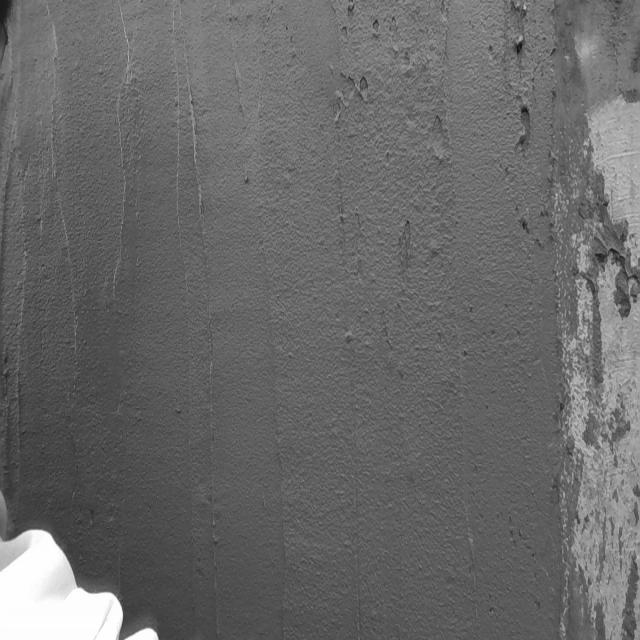trowels marks: (170, 14, 218, 640), (266, 264, 292, 638), (340, 414, 372, 640)
